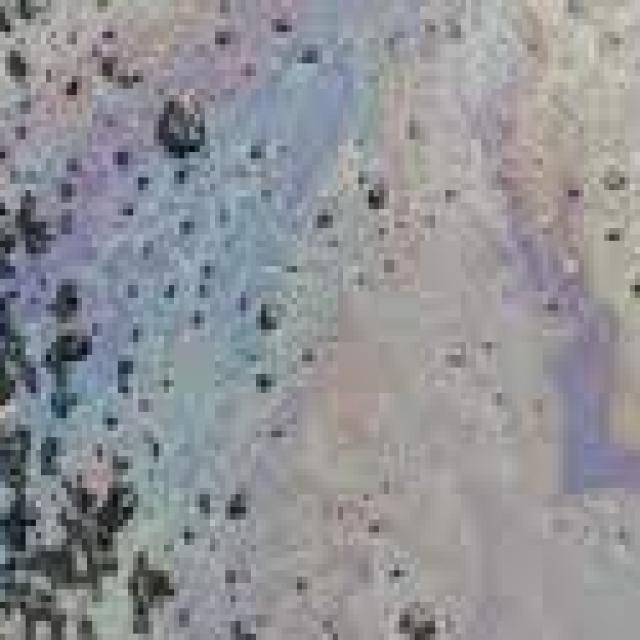-: (0, 0, 640, 640), (0, 0, 481, 640), (0, 32, 640, 431), (384, 0, 640, 640)
